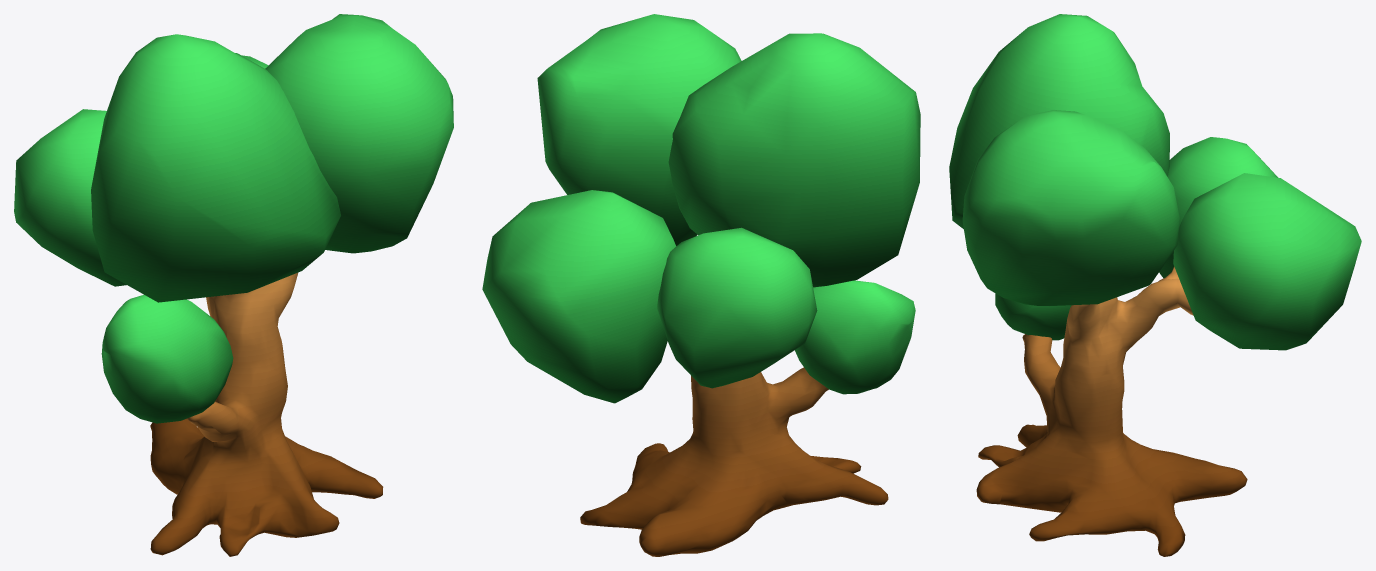
Rendered from Tree3 B2G1.fbx.
The picture shows the model from 3 angles, left to right: view 1: azimuth 30°, elevation 25°; view 2: azimuth 150°, elevation 25°; view 3: azimuth 270°, elevation 25°; orthographic projection. The views are drawn at different scales.
Visible parts, largest first — view 1: Tree3 Leaves.002, Tree3 B2, Tree3 Leaves.006, Tree3 Leaves.005, Tree3 Leaves.003; view 2: Tree3 Leaves.002, Tree3 Leaves.004, Tree3 B2, Tree3 Leaves.006, Tree3 Leaves.003, Tree3 Leaves.005; view 3: Tree3 Leaves.006, Tree3 B2, Tree3 Leaves.004, Tree3 Leaves.002, Tree3 Leaves.003, Tree3 Leaves.005.
Boxes of the visible parts, bbox=[...] form: Tree3 Leaves.002: bbox=[91, 34, 340, 302]; Tree3 B2: bbox=[150, 272, 383, 556]; Tree3 Leaves.006: bbox=[265, 14, 453, 253]; Tree3 Leaves.005: bbox=[101, 295, 233, 423]; Tree3 Leaves.003: bbox=[14, 109, 126, 286]; Tree3 Leaves.002: bbox=[668, 33, 920, 287]; Tree3 Leaves.004: bbox=[482, 190, 676, 403]; Tree3 B2: bbox=[580, 367, 888, 556]; Tree3 Leaves.006: bbox=[537, 14, 741, 245]; Tree3 Leaves.003: bbox=[657, 227, 817, 388]; Tree3 Leaves.005: bbox=[795, 280, 915, 394]; Tree3 Leaves.006: bbox=[962, 110, 1179, 305]; Tree3 B2: bbox=[976, 266, 1247, 556]; Tree3 Leaves.004: bbox=[1173, 173, 1361, 350]; Tree3 Leaves.002: bbox=[949, 14, 1169, 229]; Tree3 Leaves.003: bbox=[1159, 137, 1277, 278]; Tree3 Leaves.005: bbox=[995, 293, 1071, 340].
Bounding box in the file's own units: 19.6 × 22.2 × 27.21.
